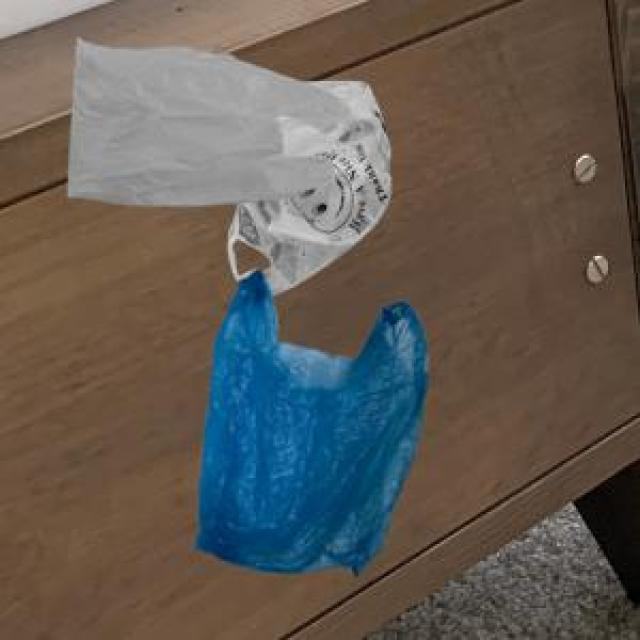waste: (69, 40, 428, 573)
